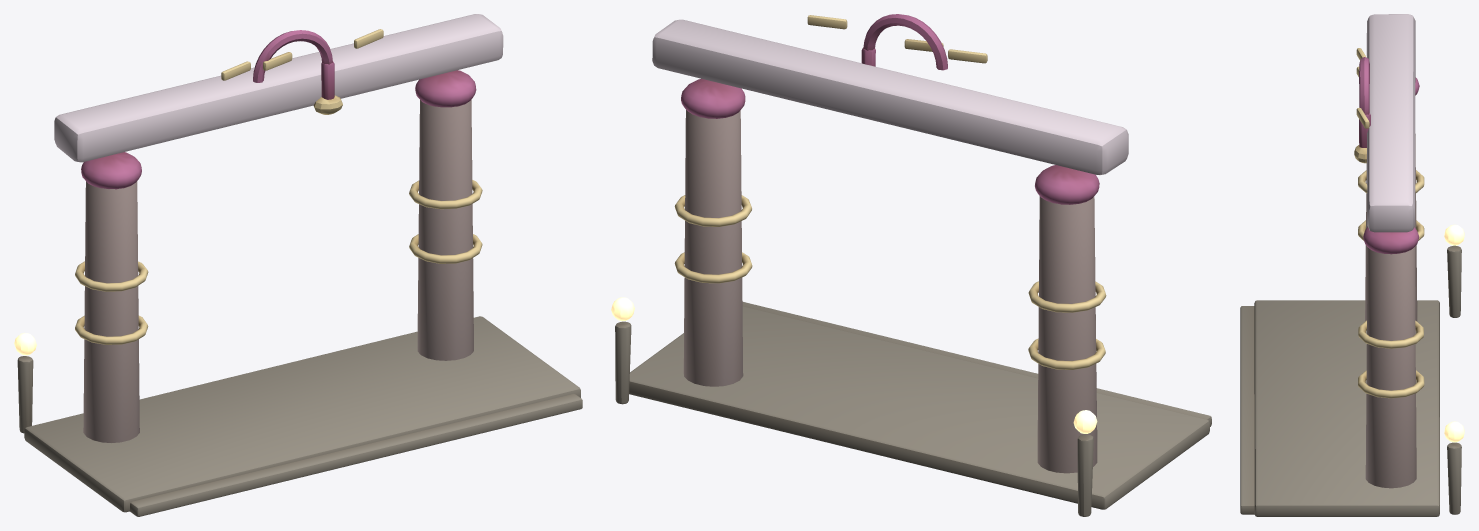
3 renders of one model, left to right at view 1: azimuth 30°, elevation 25°; view 2: azimuth 150°, elevation 25°; view 3: azimuth 270°, elevation 25°, orthographic. The views are drawn at different scales.
Visible parts, largest first — view 1: gate_f90e76e8; view 2: gate_f90e76e8; view 3: gate_f90e76e8.
Boxes of the visible parts, left/top/right/bottom form: gate_f90e76e8: left=14, top=14, right=582, bottom=516; gate_f90e76e8: left=611, top=14, right=1211, bottom=516; gate_f90e76e8: left=1240, top=14, right=1464, bottom=516.
Bounding box in the file's own units: 5.53 × 4.46 × 2.54.
